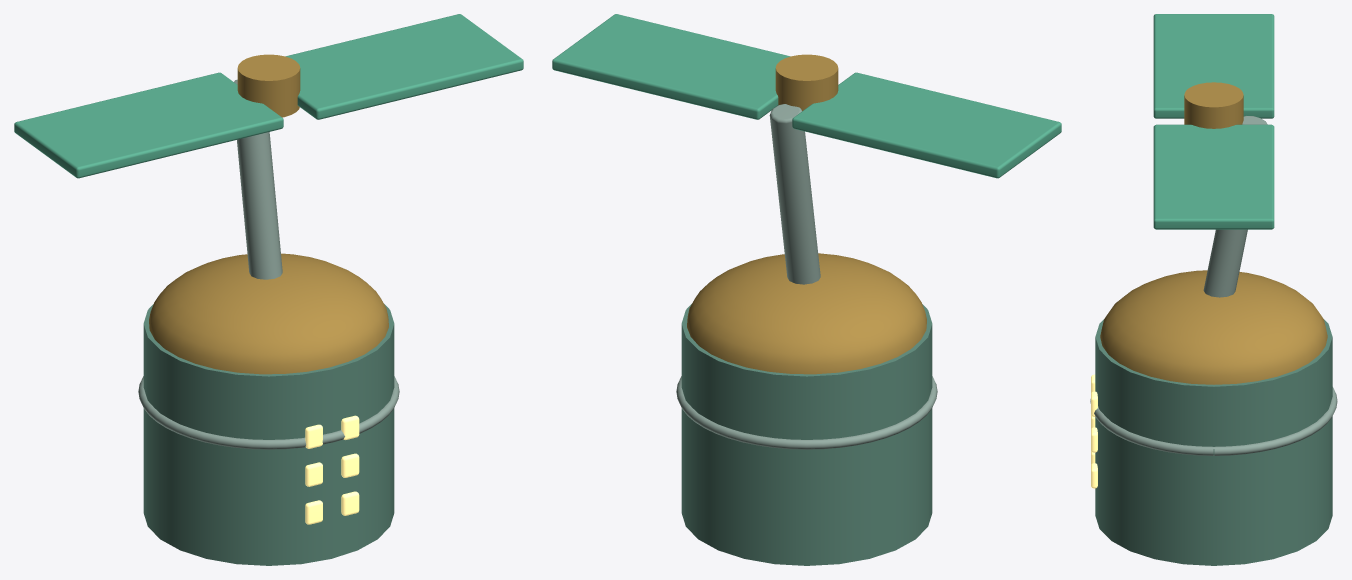
3 renders of one model, left to right at view 1: azimuth 30°, elevation 25°; view 2: azimuth 150°, elevation 25°; view 3: azimuth 270°, elevation 25°, orthographic. The views are drawn at different scales.
Visible parts, largest first — view 1: Cylindrical tower, Tower crown, Radial collector panel.001, Radial collector panel, Rotor inclined support, Rotor pivot, Tower seam; view 2: Cylindrical tower, Tower crown, Radial collector panel.001, Radial collector panel, Rotor inclined support, Tower seam, Rotor pivot; view 3: Cylindrical tower, Tower crown, Radial collector panel, Radial collector panel.001, Tower seam, Rotor pivot, Rotor inclined support.
Boxes of the visible parts, x1,y1,x2,y2 form: Cylindrical tower: (143, 304, 394, 565); Tower crown: (149, 253, 388, 374); Radial collector panel.001: (14, 72, 283, 178); Radial collector panel: (285, 14, 523, 119); Rotor inclined support: (234, 79, 282, 279); Rotor pivot: (237, 54, 300, 117); Tower seam: (138, 376, 399, 449); Cylindrical tower: (681, 304, 932, 565); Tower crown: (687, 253, 926, 374); Radial collector panel.001: (792, 72, 1061, 178); Radial collector panel: (552, 14, 790, 119); Rotor inclined support: (769, 104, 820, 284); Tower seam: (676, 376, 937, 449); Rotor pivot: (775, 54, 838, 110); Cylindrical tower: (1095, 319, 1332, 565); Tower crown: (1100, 270, 1327, 384); Radial collector panel: (1153, 124, 1274, 229); Radial collector panel.001: (1153, 14, 1274, 118); Tower seam: (1090, 387, 1337, 455); Rotor pivot: (1184, 82, 1243, 128); Rotor inclined support: (1203, 115, 1267, 297).
Size of the model in its own units: 2.47 by 2.35 by 1.25.
